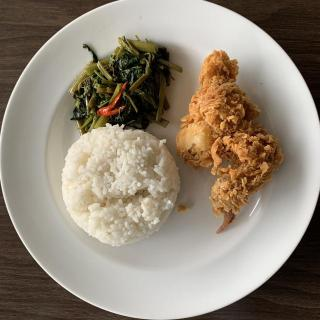Nasi: (63, 130, 181, 245)
